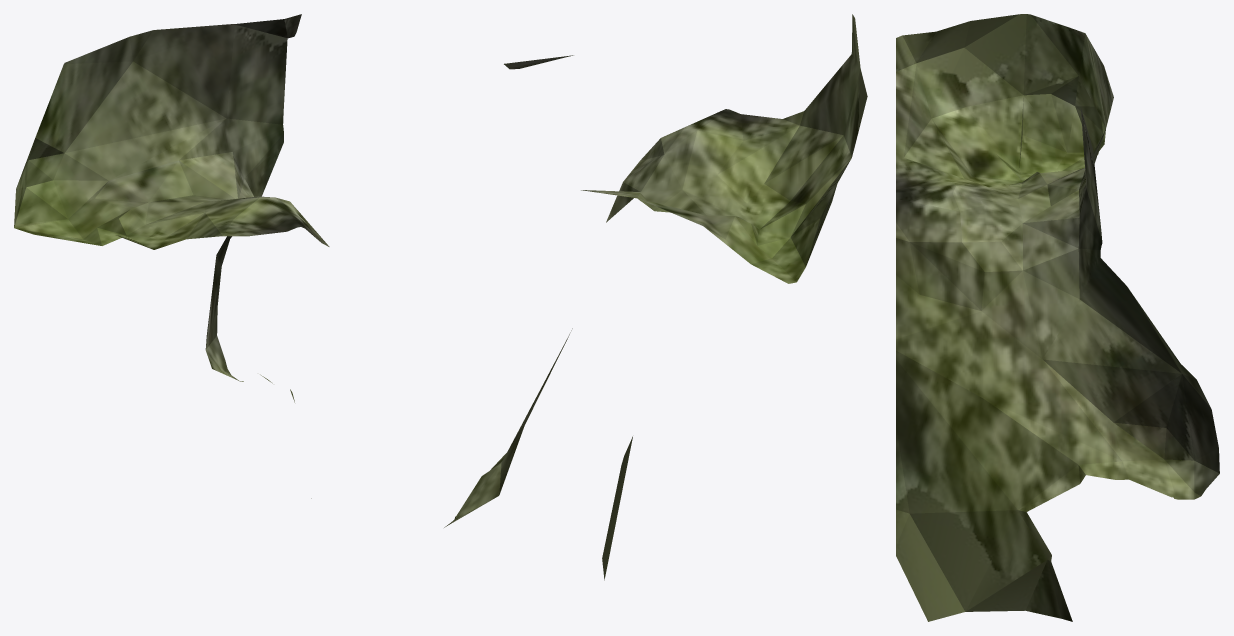
3 views of the same model, side by side, from view 1: azimuth 30°, elevation 25°; view 2: azimuth 150°, elevation 25°; view 3: azimuth 270°, elevation 25° (orthographic). The views are drawn at different scales.
Bounding box in the file's own units: 1.6 × 2.95 × 1.77.
2 materials, 2 textured.
